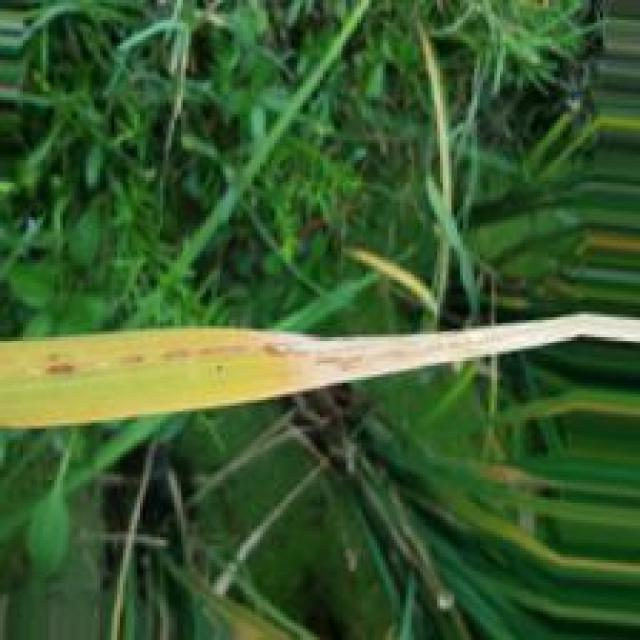Narrow_Brown_Leaf_Spot: (1, 311, 585, 395)
